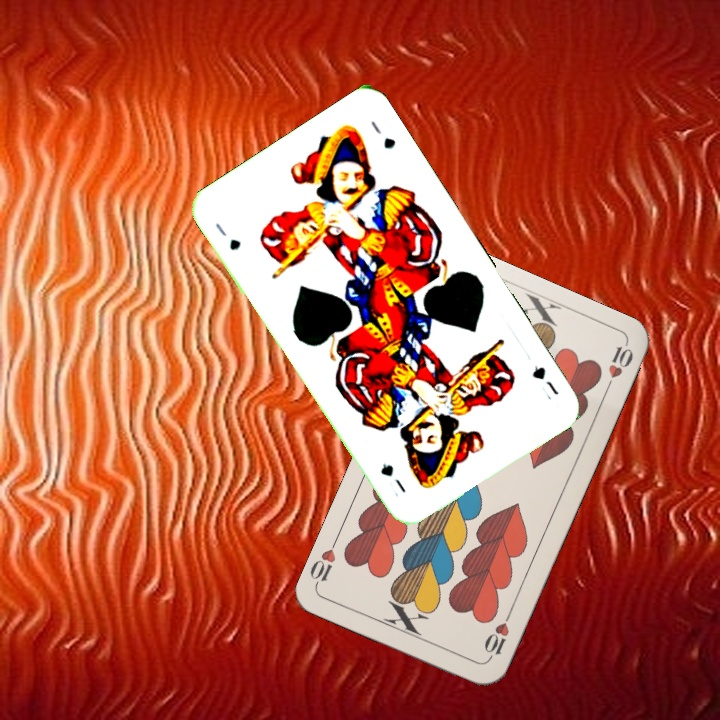GU: (528, 361, 562, 398), (211, 219, 243, 253)
H10: (480, 607, 515, 663)
